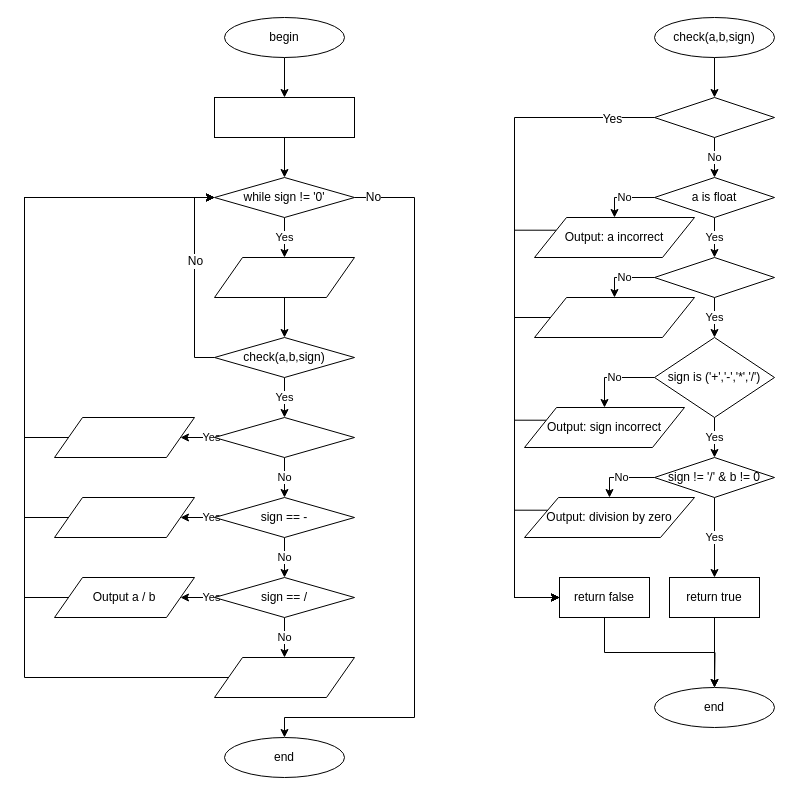
This 792x795 diagram has some shape labels left out. Each missing label, with the box of its shape:
b is float: (654, 256, 774, 298)
input a, b, sign: (214, 256, 354, 298)
Output a * b: (214, 656, 354, 698)
Output a + b: (54, 416, 194, 458)
Output a - b: (54, 496, 194, 538)
Output: b incorrect: (534, 296, 694, 338)
sign = '': (214, 96, 354, 138)
sign == '0': (654, 96, 774, 138)
sign == +: (214, 416, 354, 458)
